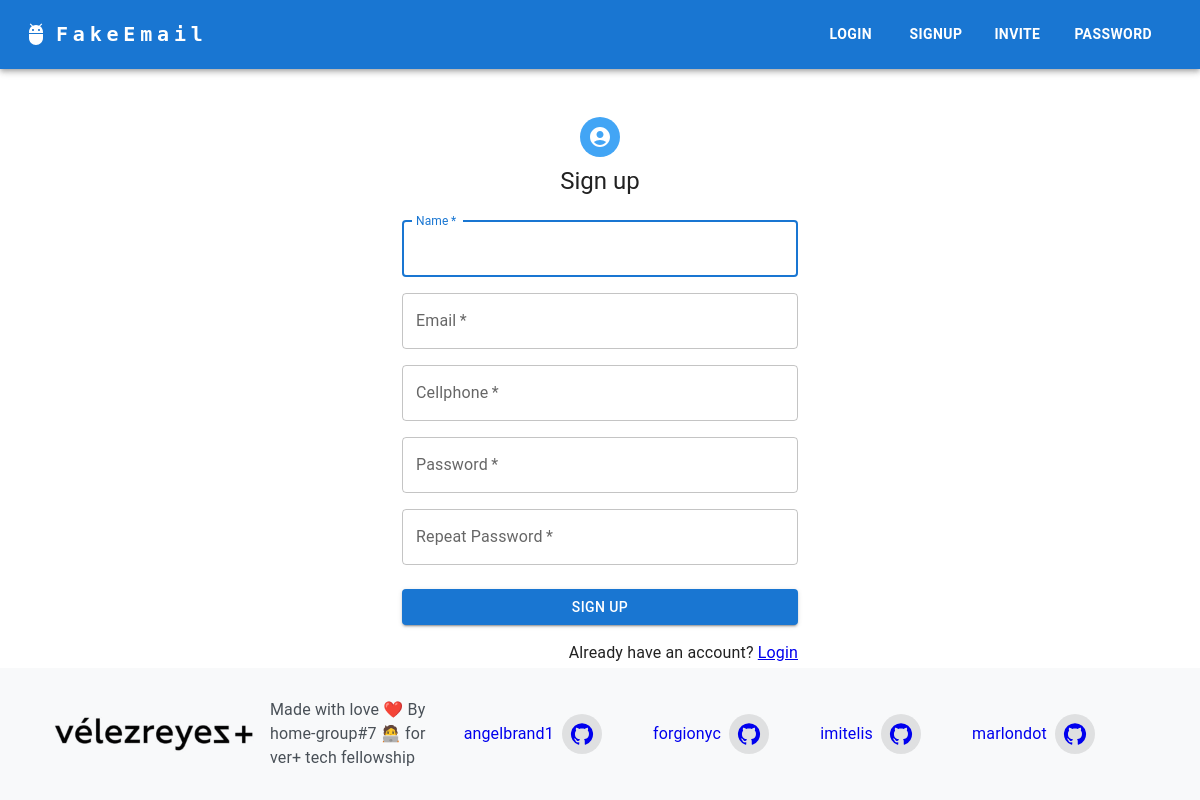
Test case: Signup tests › displays error when information is blank
The image size is (1200, 800).
Click the button with id "signupButton". click: x=600, y=608
box: [402,589,798,626]
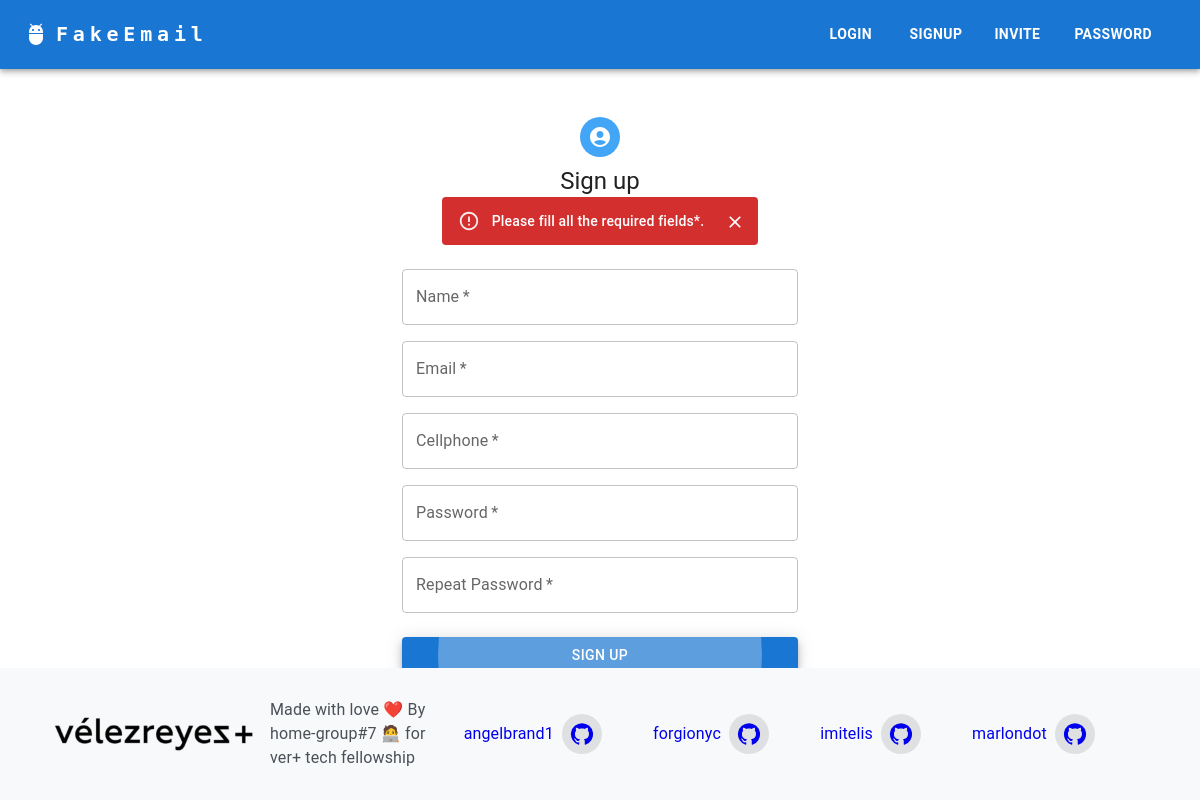
Expected: the text "Please fill all the required fields*." is shown, [492,212,704,228]
